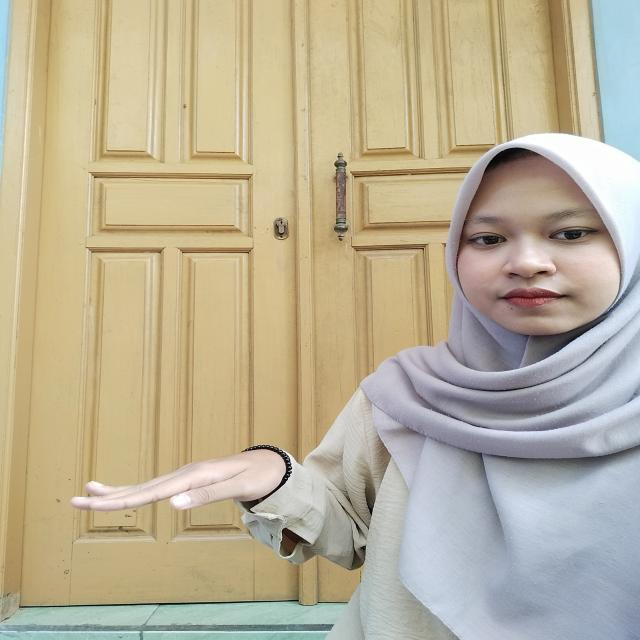adik: (68, 440, 347, 544)
